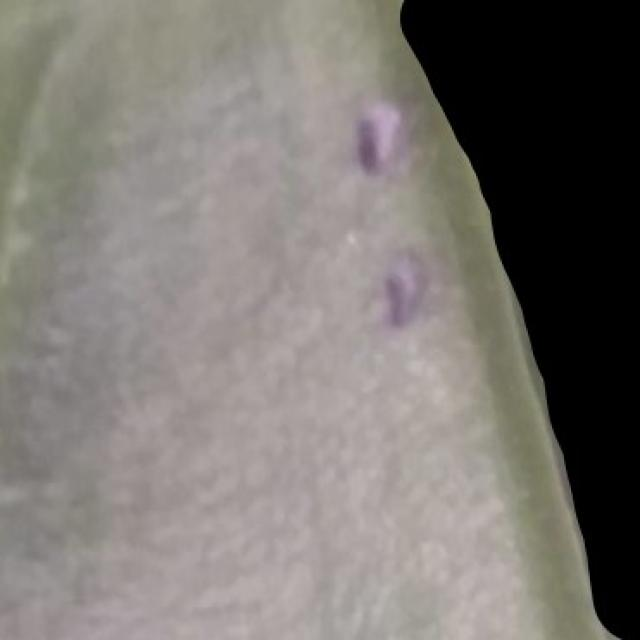mite: (0, 93, 438, 502), (345, 95, 435, 333), (381, 269, 414, 326), (352, 116, 383, 173)
